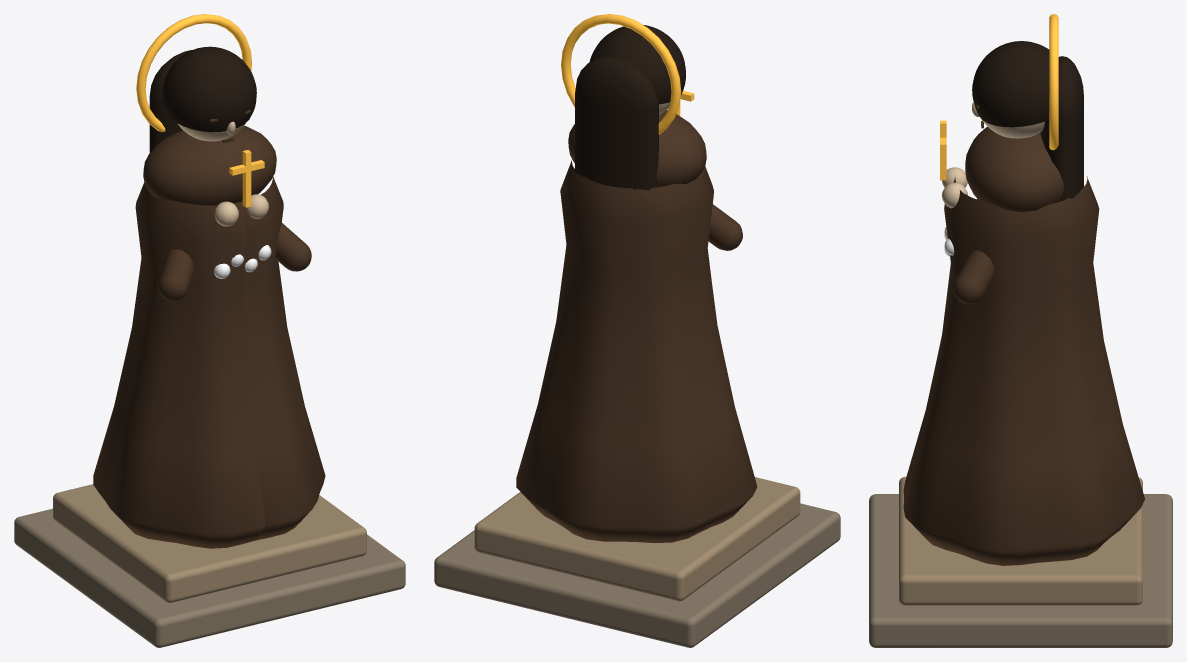
Rendered from statue-teresa.glb.
3 renders of one model, left to right at view 1: azimuth 30°, elevation 25°; view 2: azimuth 150°, elevation 25°; view 3: azimuth 270°, elevation 25°, orthographic. The views are drawn at different scales.
Parts seen in each view (by area): view 1: Robe, PlinthLow, PlinthTop, Shoulders, Veil, Arm (×2), object 21, VeilDrape, Cross; view 2: Robe, PlinthLow, PlinthTop, VeilDrape, Veil, Shoulders, object 21, Arm; view 3: Robe, PlinthLow, PlinthTop, Shoulders, Veil, VeilDrape, Arm, object 21, Head.
Boxes of the visible parts, box(x1,y1,x2,y2) form: Robe: box(93, 176, 325, 548); PlinthLow: box(14, 508, 405, 647); PlinthTop: box(53, 484, 366, 602); Shoulders: box(143, 126, 276, 205); Veil: box(162, 46, 256, 132); Arm (×2): box(157, 223, 311, 301); object 21: box(136, 14, 251, 132); VeilDrape: box(149, 50, 191, 152); Cross: box(229, 150, 264, 207); Robe: box(516, 159, 757, 543); PlinthLow: box(434, 503, 840, 647); PlinthTop: box(474, 477, 800, 601); VeilDrape: box(575, 57, 658, 190); Veil: box(589, 25, 685, 104); Shoulders: box(568, 110, 706, 187); object 21: box(561, 14, 681, 134); Arm: box(708, 204, 742, 250); Robe: box(903, 176, 1144, 565); PlinthLow: box(869, 494, 1172, 647); PlinthTop: box(899, 476, 1142, 605); Shoulders: box(965, 126, 1064, 211); Veil: box(972, 41, 1059, 127); VeilDrape: box(1040, 56, 1083, 201); Arm: box(953, 250, 993, 304); object 21: box(1049, 14, 1058, 150); Head: box(981, 119, 1044, 138).
Size of the model in its own units: 0.92 by 1.89 by 0.92.
